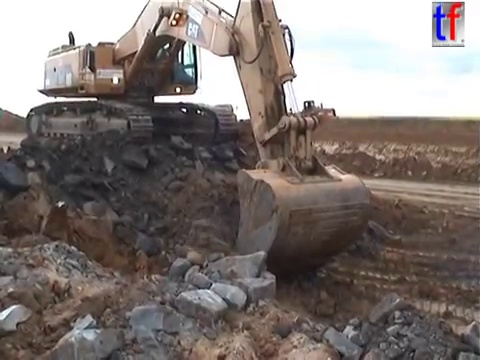excavator: (21, 1, 376, 282)
